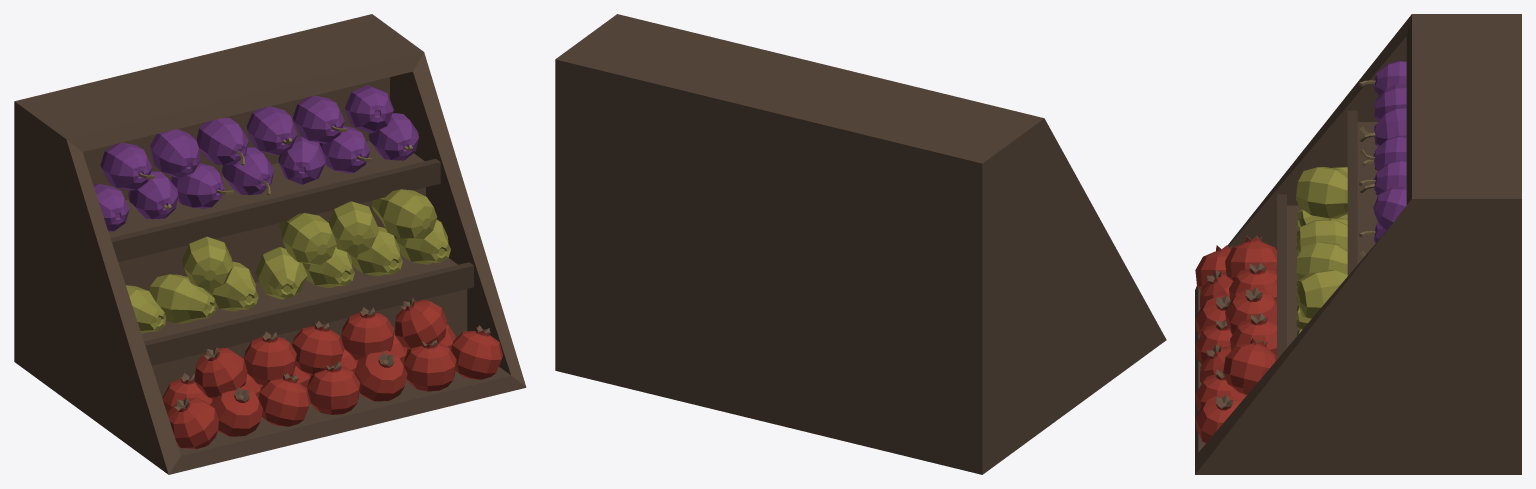
File: SM_Props_Farm_Crate_Filled_Stall_02.fbx
3 renders of one model, left to right at view 1: azimuth 30°, elevation 25°; view 2: azimuth 150°, elevation 25°; view 3: azimuth 270°, elevation 25°, orthographic. The views are drawn at different scales.
Visible parts, largest first — view 1: SM_Props_Farm_Crate_Filled_Stall_02; view 2: SM_Props_Farm_Crate_Filled_Stall_02; view 3: SM_Props_Farm_Crate_Filled_Stall_02.
Part boxes in pixels (left/top/right/bottom): SM_Props_Farm_Crate_Filled_Stall_02: left=14, top=14, right=526, bottom=474; SM_Props_Farm_Crate_Filled_Stall_02: left=555, top=14, right=1166, bottom=474; SM_Props_Farm_Crate_Filled_Stall_02: left=1195, top=14, right=1521, bottom=474.
Size of the model in its own units: 104 by 72.51 by 77.8.
